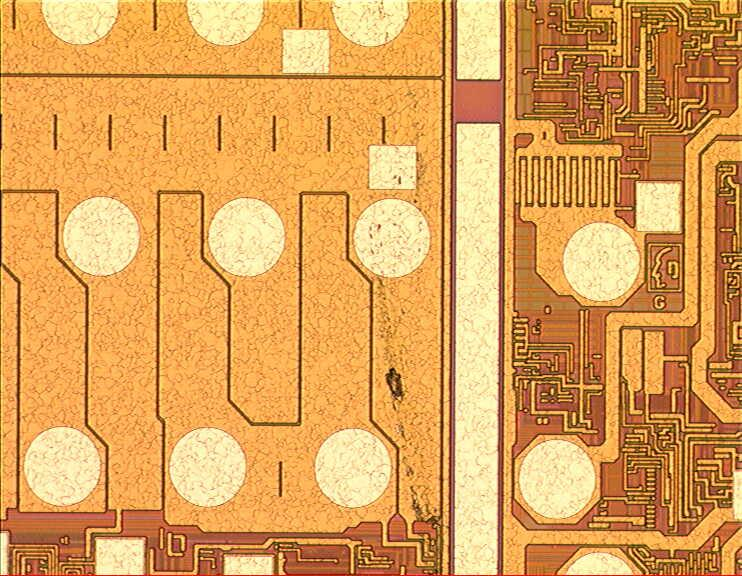SCRATCH: (358, 93, 470, 576)
